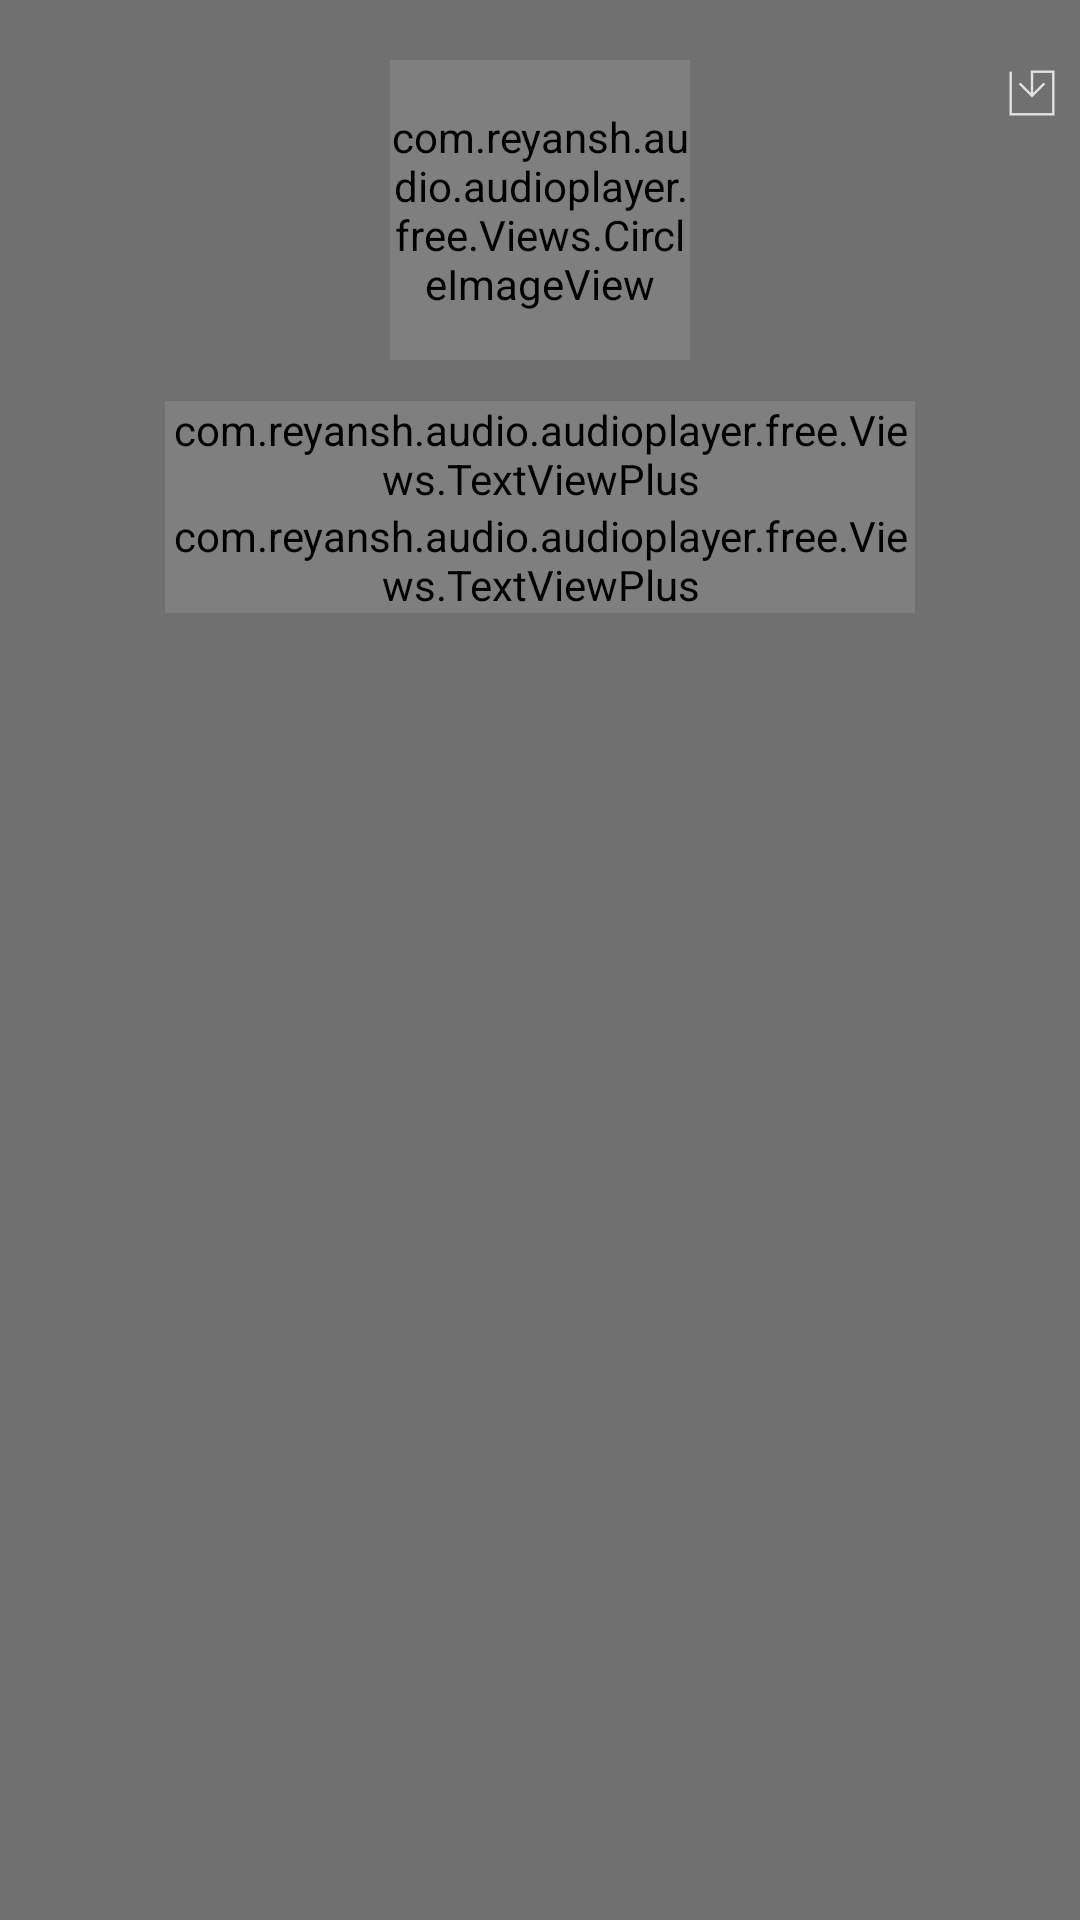

Screen size 1080px×1920px. Icon name, then its box in pixels as (x1, y1, x2, y2):
save queue: (1009, 70, 1055, 116)
